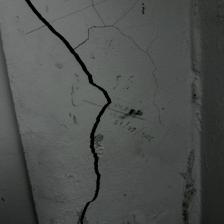High: (19, 1, 127, 223)
